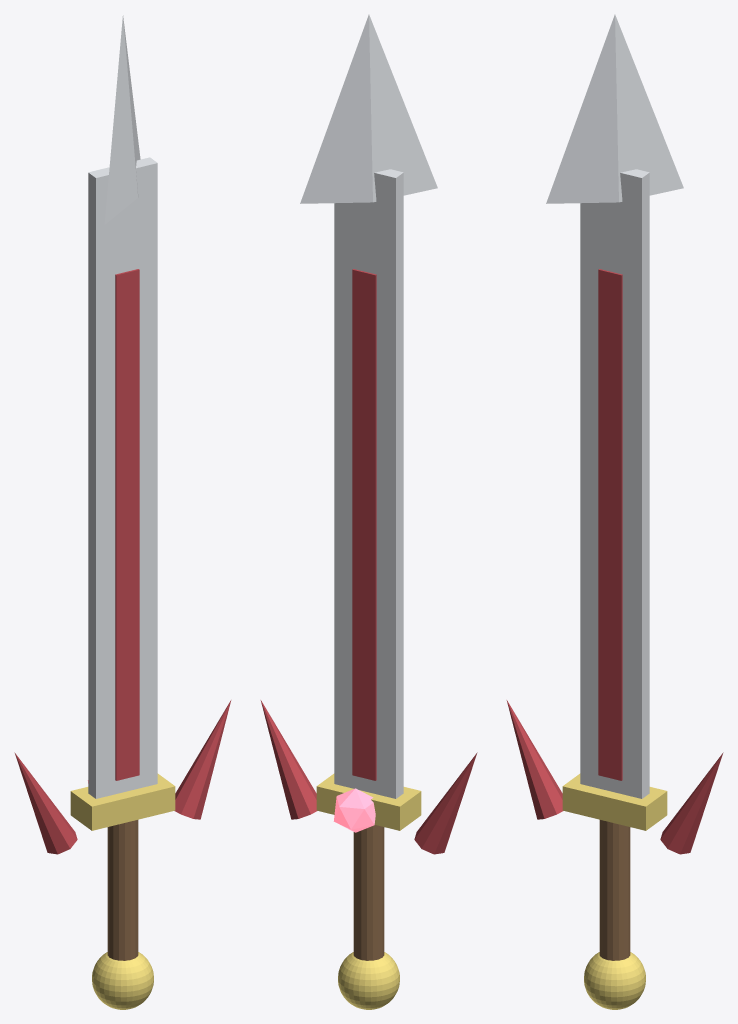
Rendered from dragon_blade.glb.
3 renders of one model, left to right at view 1: azimuth 30°, elevation 25°; view 2: azimuth 150°, elevation 25°; view 3: azimuth 330°, elevation 25°, orthographic.
Parts seen in each view (by area): view 1: Cube.001, Cube.002, Cylinder, Cone.002, Cube, Sphere, Cone.001, Cone; view 2: Cube.001, Cube.002, Cone.002, Cylinder, Sphere, Cube, Cone.001, Cone, Icosphere; view 3: Cube.001, Cube.002, Cone.002, Cylinder, Cube, Sphere, Cone, Cone.001.
Boxes of the visible parts, left/top/right/bottom form: Cube.001: left=88, top=157, right=157, bottom=798; Cube.002: left=115, top=269, right=139, bottom=780; Cylinder: left=107, top=820, right=138, bottom=960; Cone.002: left=104, top=15, right=140, bottom=224; Cube: left=70, top=773, right=175, bottom=830; Sphere: left=92, top=952, right=153, bottom=1009; Cone.001: left=174, top=700, right=231, bottom=819; Cone: left=14, top=752, right=77, bottom=854; Cube.001: left=334, top=169, right=403, bottom=798; Cube.002: left=352, top=269, right=376, bottom=780; Cone.002: left=300, top=14, right=437, bottom=203; Cylinder: left=353, top=825, right=384, bottom=960; Sphere: left=338, top=952, right=399, bottom=1009; Cube: left=316, top=773, right=421, bottom=830; Cone.001: left=260, top=700, right=317, bottom=819; Cone: left=414, top=752, right=477, bottom=854; Icosphere: left=333, top=788, right=375, bottom=832; Cube.001: left=580, top=169, right=649, bottom=798; Cube.002: left=598, top=269, right=622, bottom=780; Cone.002: left=546, top=14, right=683, bottom=203; Cylinder: left=599, top=820, right=630, bottom=960; Cube: left=562, top=773, right=667, bottom=830; Sphere: left=584, top=952, right=645, bottom=1009; Cone: left=506, top=700, right=563, bottom=819; Cone.001: left=660, top=752, right=723, bottom=854.
Size of the model in its own units: 0.5618 by 2.46 by 0.2263.
